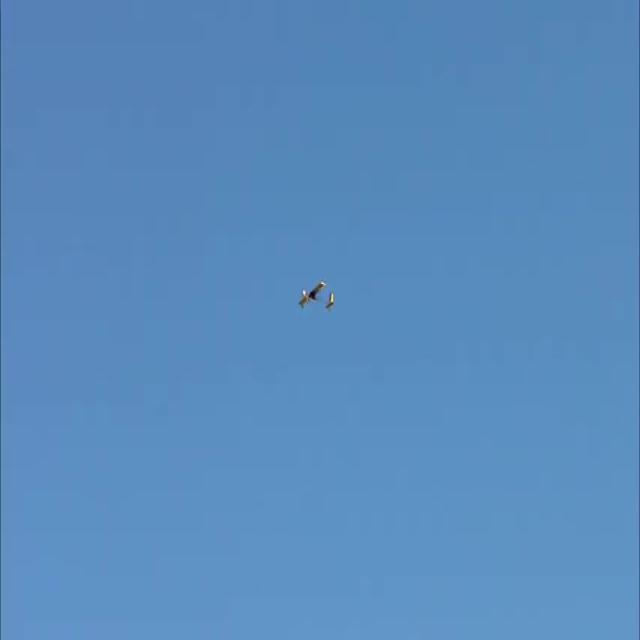iha: (297, 278, 335, 312)
